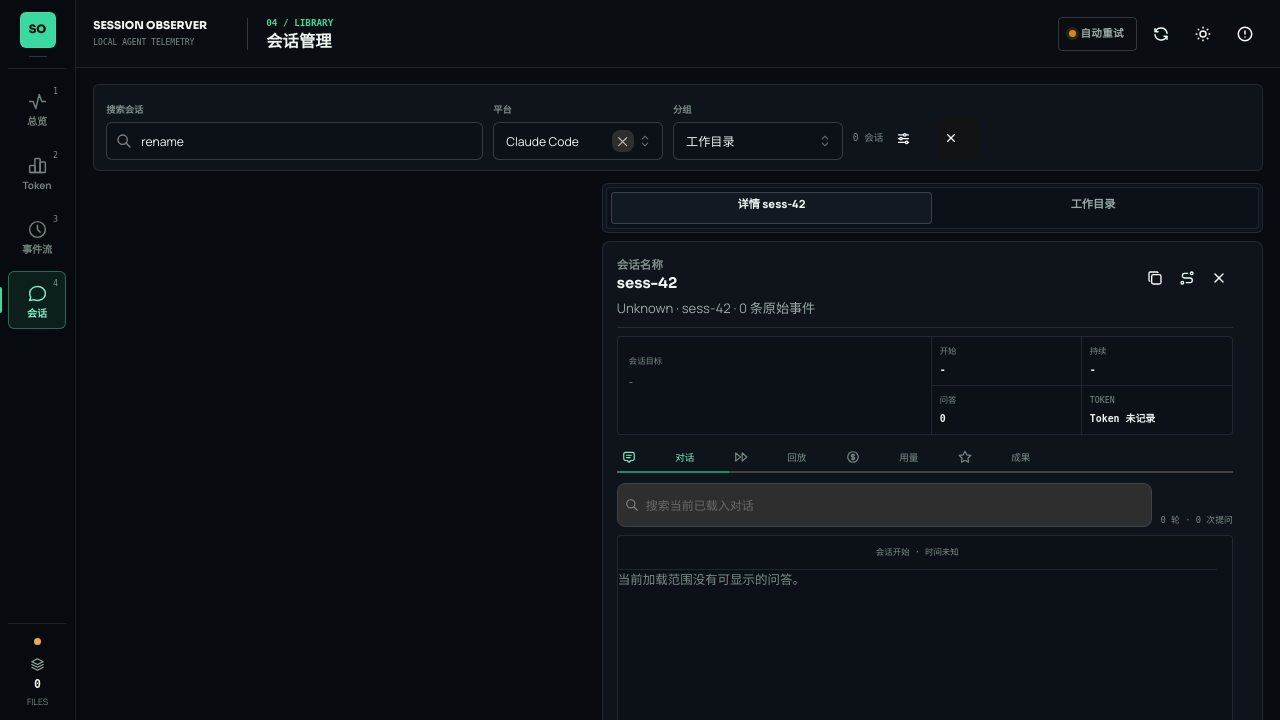
App URL state › hydrates the current interface from URL search params
The width and height of the screenshot is (1280, 720).
Expected: the field showing "rename" is shown, x1=106 y1=122 x2=483 y2=160
Click the 2nd button named "更多条件". click: x=912, y=138
box: x1=893 y1=116 x2=930 y2=160
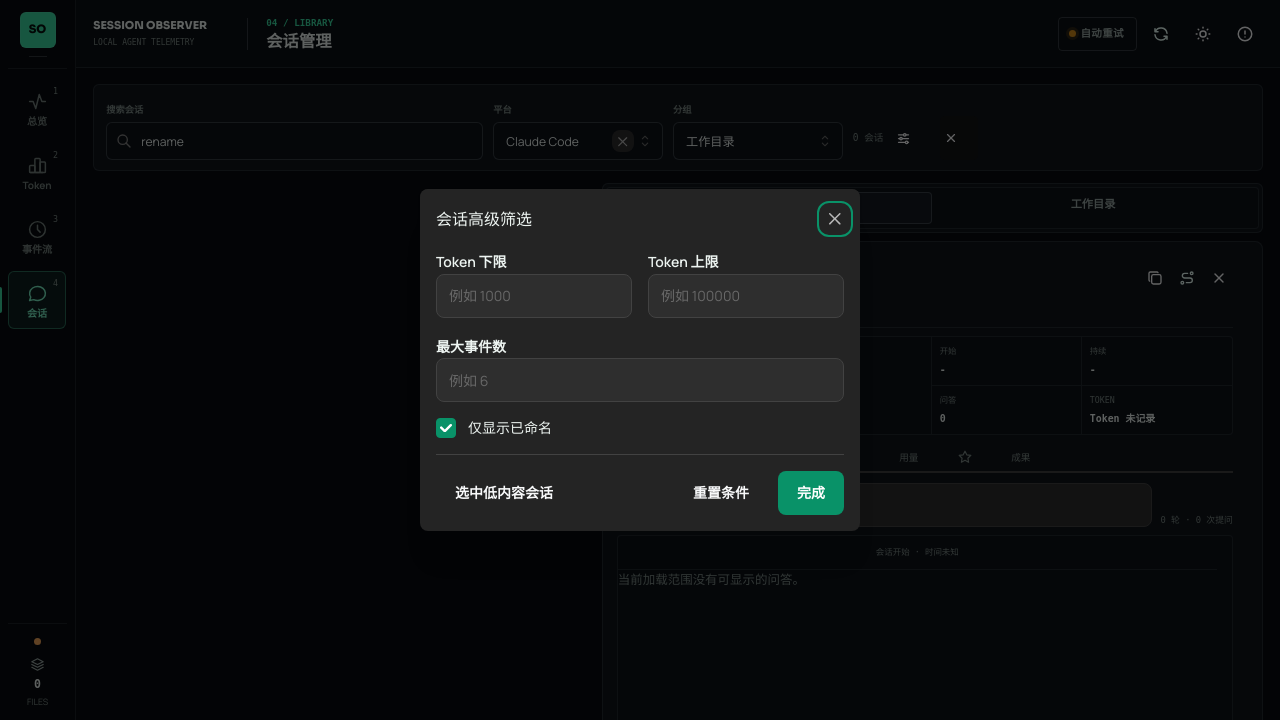
Expected: the dropdown showing "Claude Code" is shown, x1=493 y1=122 x2=663 y2=160
Expected: the checkbox labelled "仅显示已命名" is checked, x1=436 y1=418 x2=456 y2=438
